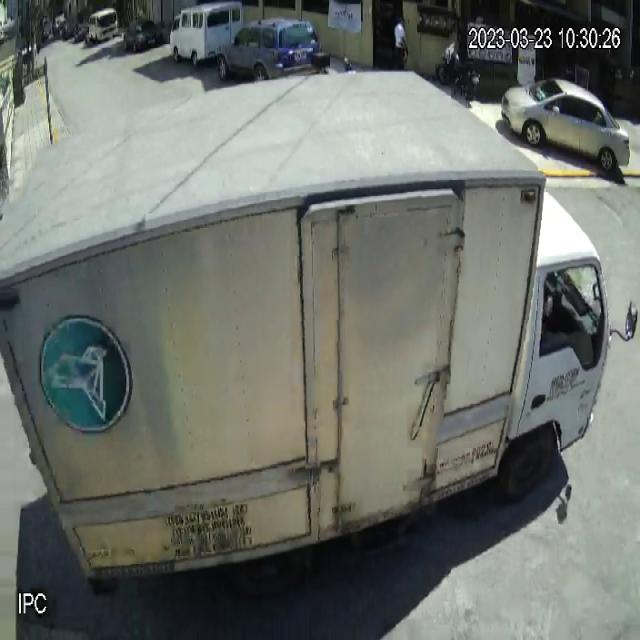Car: (500, 80, 630, 172), (217, 18, 323, 96)
Truck: (0, 68, 640, 600)
Van: (170, 3, 242, 68)
